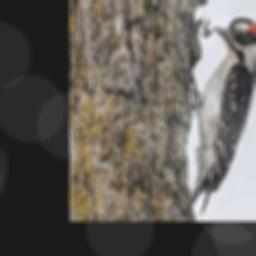Woodpecker: (190, 17, 256, 218)
